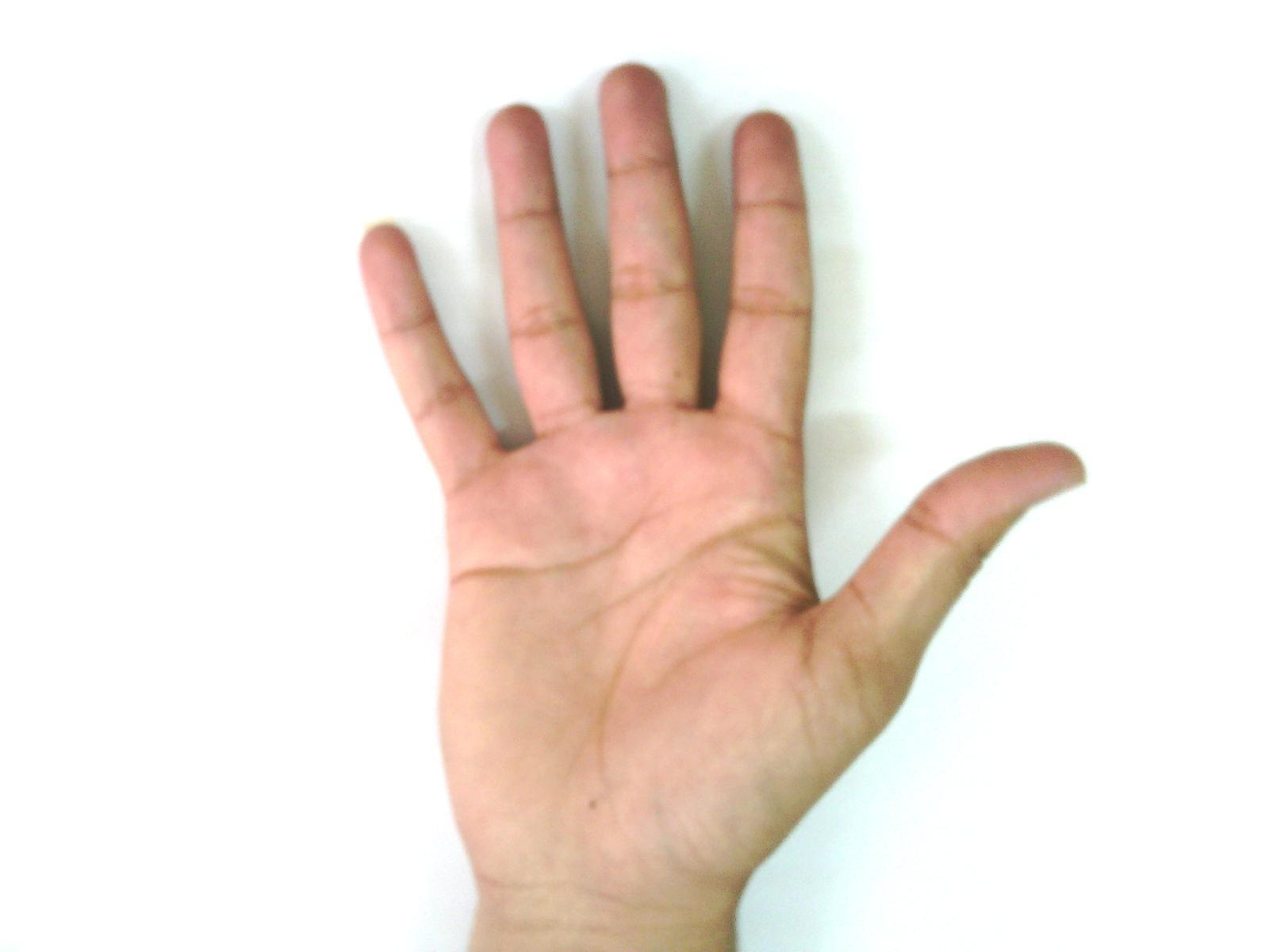open_palm: (354, 62, 1089, 948)
